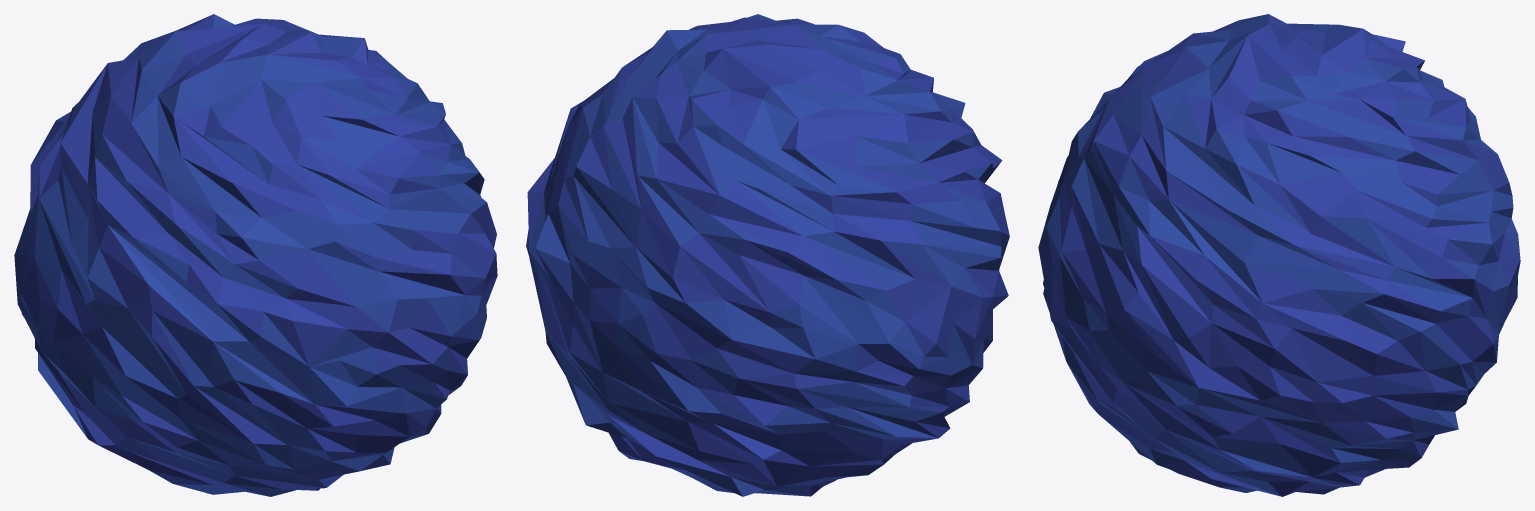
File: neptune.glb
3 renders of one model, left to right at view 1: azimuth 30°, elevation 25°; view 2: azimuth 150°, elevation 25°; view 3: azimuth 270°, elevation 25°, orthographic.
Size of the model in its own units: 35.55 by 35.61 by 35.61.
Materials: 1 (1 with a texture image).
